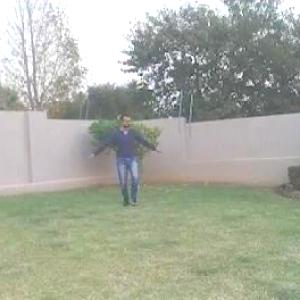land: (78, 86, 163, 223)
